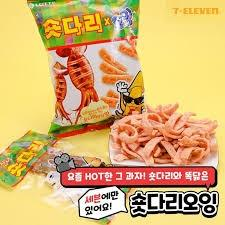snack: (26, 0, 148, 139)
